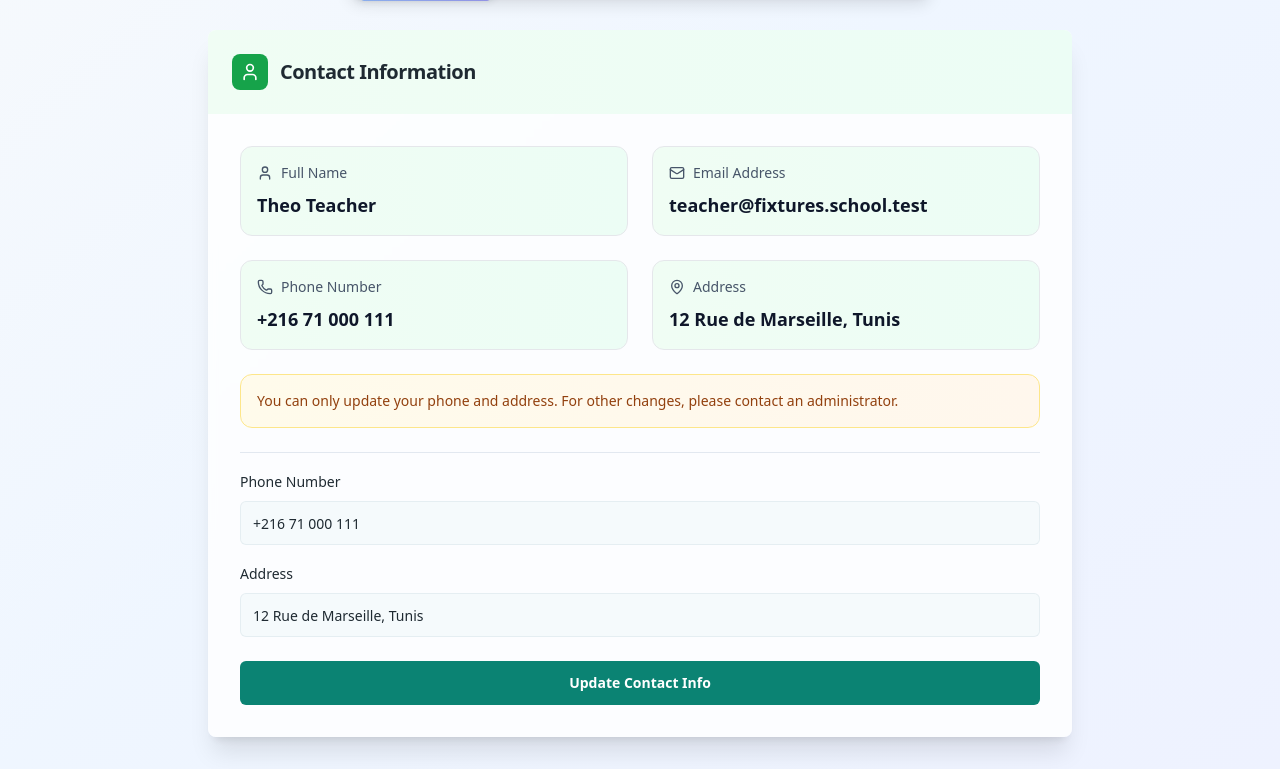
ProfilePage › saves edited contact details and shows the values the server returned
The width and height of the screenshot is (1280, 769).
(page scrolled)
Replace the text in the field labelled "Phone Number" with "+216 98 765 432": (640, 523) [240,501,1040,545]
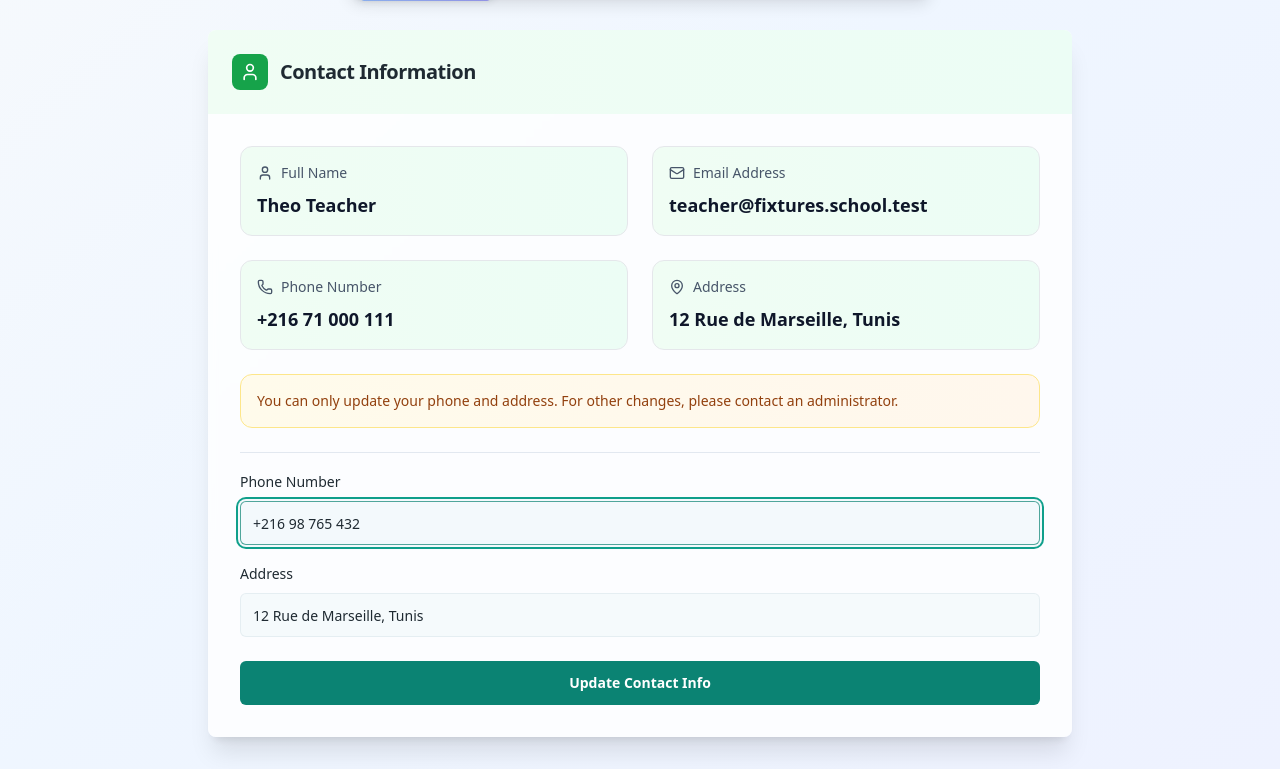
Click the button "Update Contact Info": (640, 683) [240,661,1040,705]
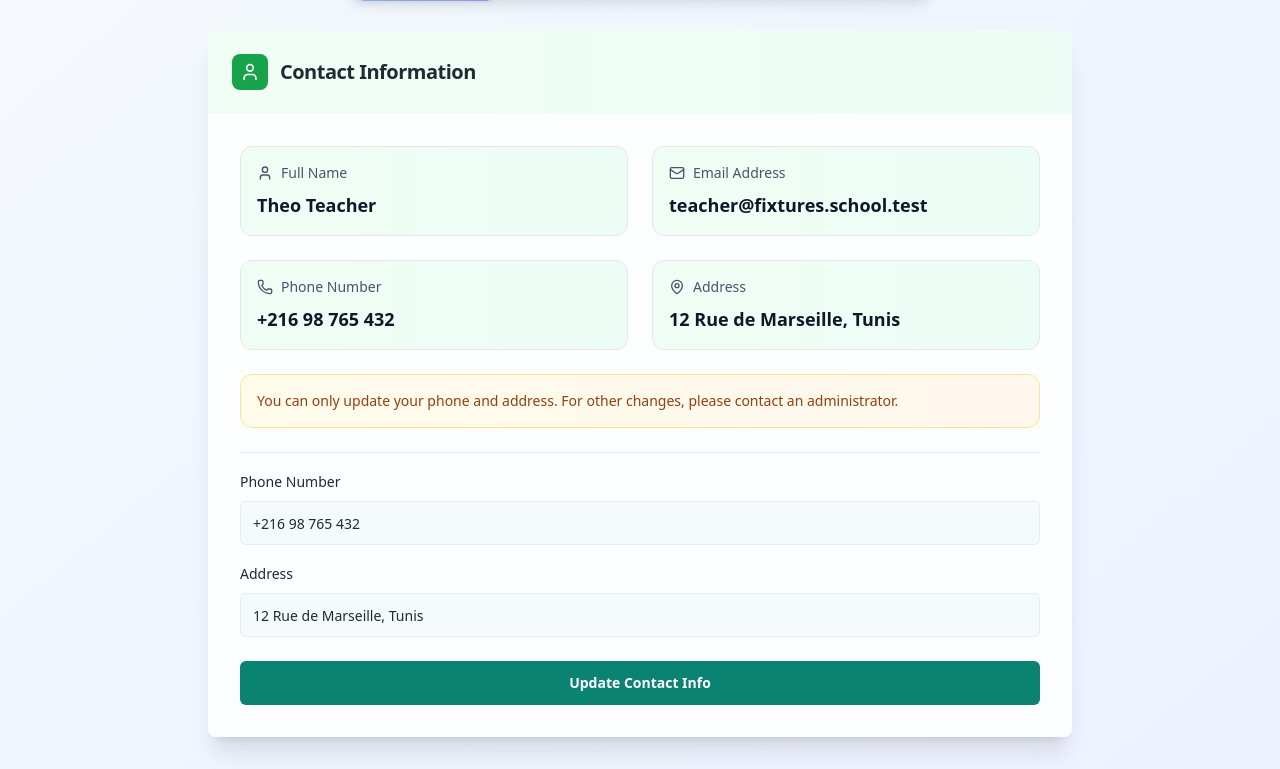
Result: the field labelled "Phone Number" holds "+216 98 765 432" at [240,501,1040,545]
Result: the text "+216 98 765 432" is shown at [257,307,395,331]
